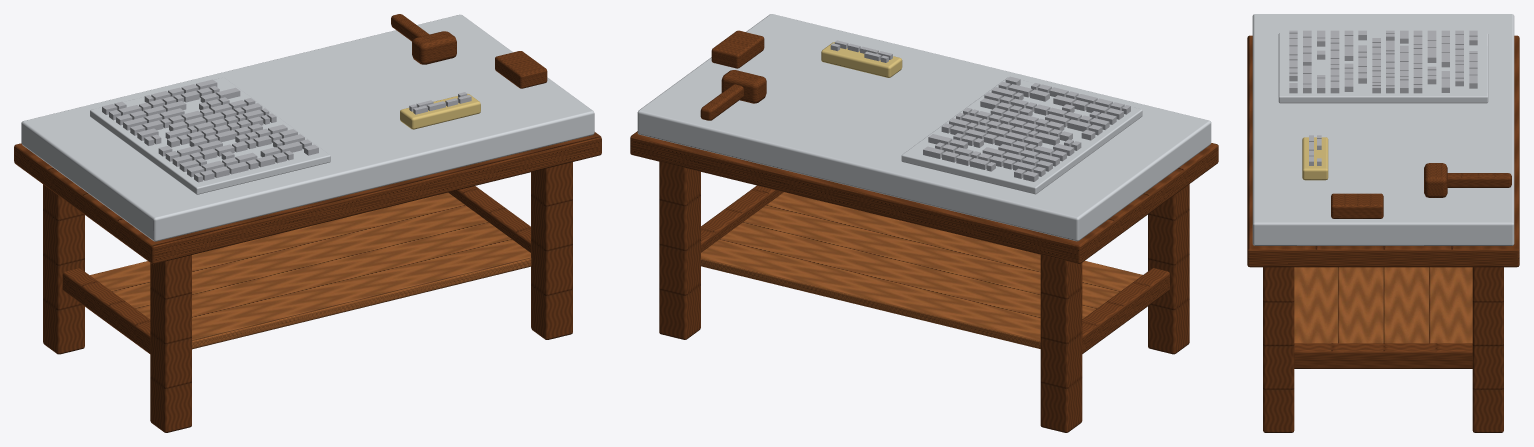
The model's file is printing-press-and-newspaper-office-composing-stone-3f0cf356__37734.glb.
3 renders of one model, left to right at view 1: azimuth 30°, elevation 25°; view 2: azimuth 150°, elevation 25°; view 3: azimuth 270°, elevation 25°, orthographic. The views are drawn at different scales.
Parts seen in each view (by area): view 1: composing-stone; view 2: composing-stone; view 3: composing-stone.
Boxes of the visible parts, left/top/right/bottom form: composing-stone: left=14, top=14, right=601, bottom=432; composing-stone: left=630, top=14, right=1218, bottom=432; composing-stone: left=1247, top=14, right=1519, bottom=432.
Size of the model in its own units: 1.94 by 1.01 by 1.04.
Materials: 5 (2 with a texture image).
